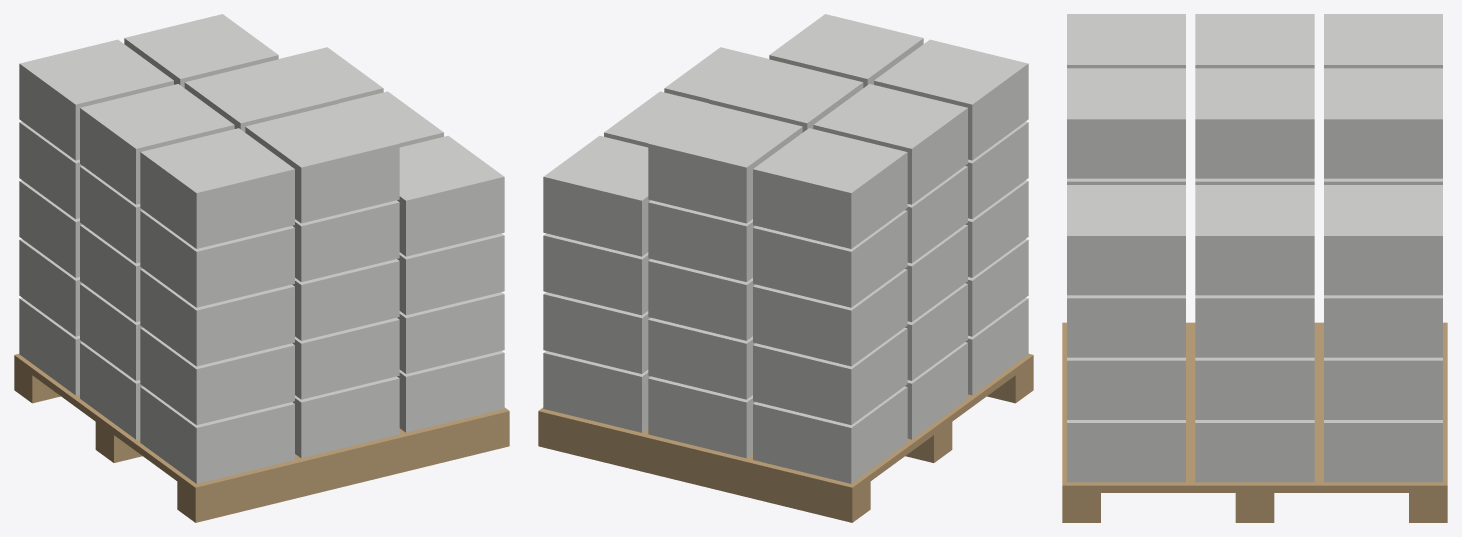
Rendered from pallet_mp_42.glb.
3 renders of one model, left to right at view 1: azimuth 30°, elevation 25°; view 2: azimuth 150°, elevation 25°; view 3: azimuth 270°, elevation 25°, orthographic. The views are drawn at different scales.
Parts seen in each view (by area): view 1: PalletMP; view 2: PalletMP; view 3: PalletMP.
Boxes of the visible parts, box(x1,y1,x2,y2) form: PalletMP: box(14, 14, 509, 522); PalletMP: box(538, 14, 1033, 522); PalletMP: box(1062, 14, 1447, 522).
Bounding box in the file's own units: 1 × 0.9957 × 1.
